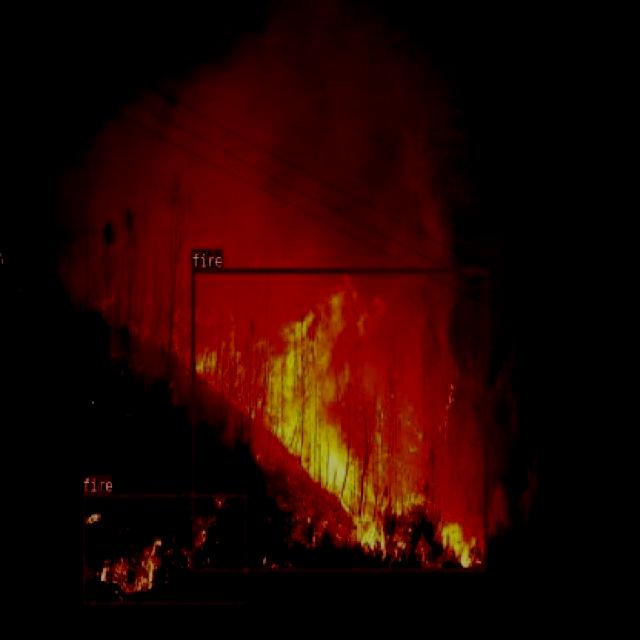fire: (190, 268, 487, 572), (81, 492, 246, 605)
